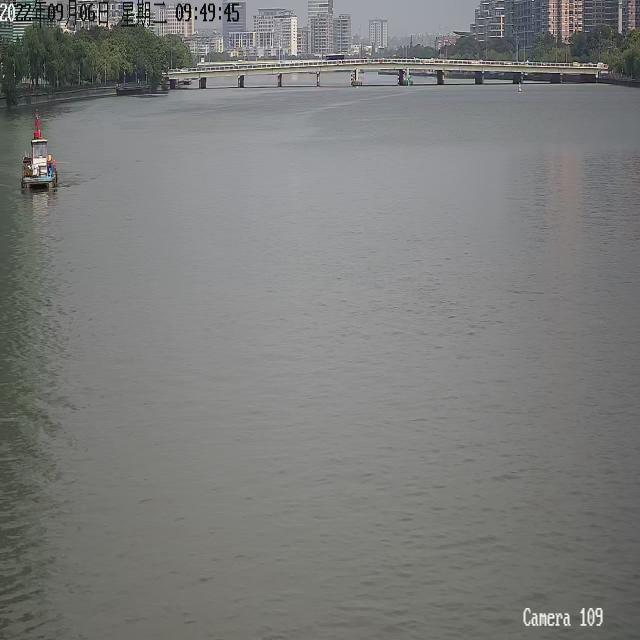ship: (20, 137, 57, 187)
